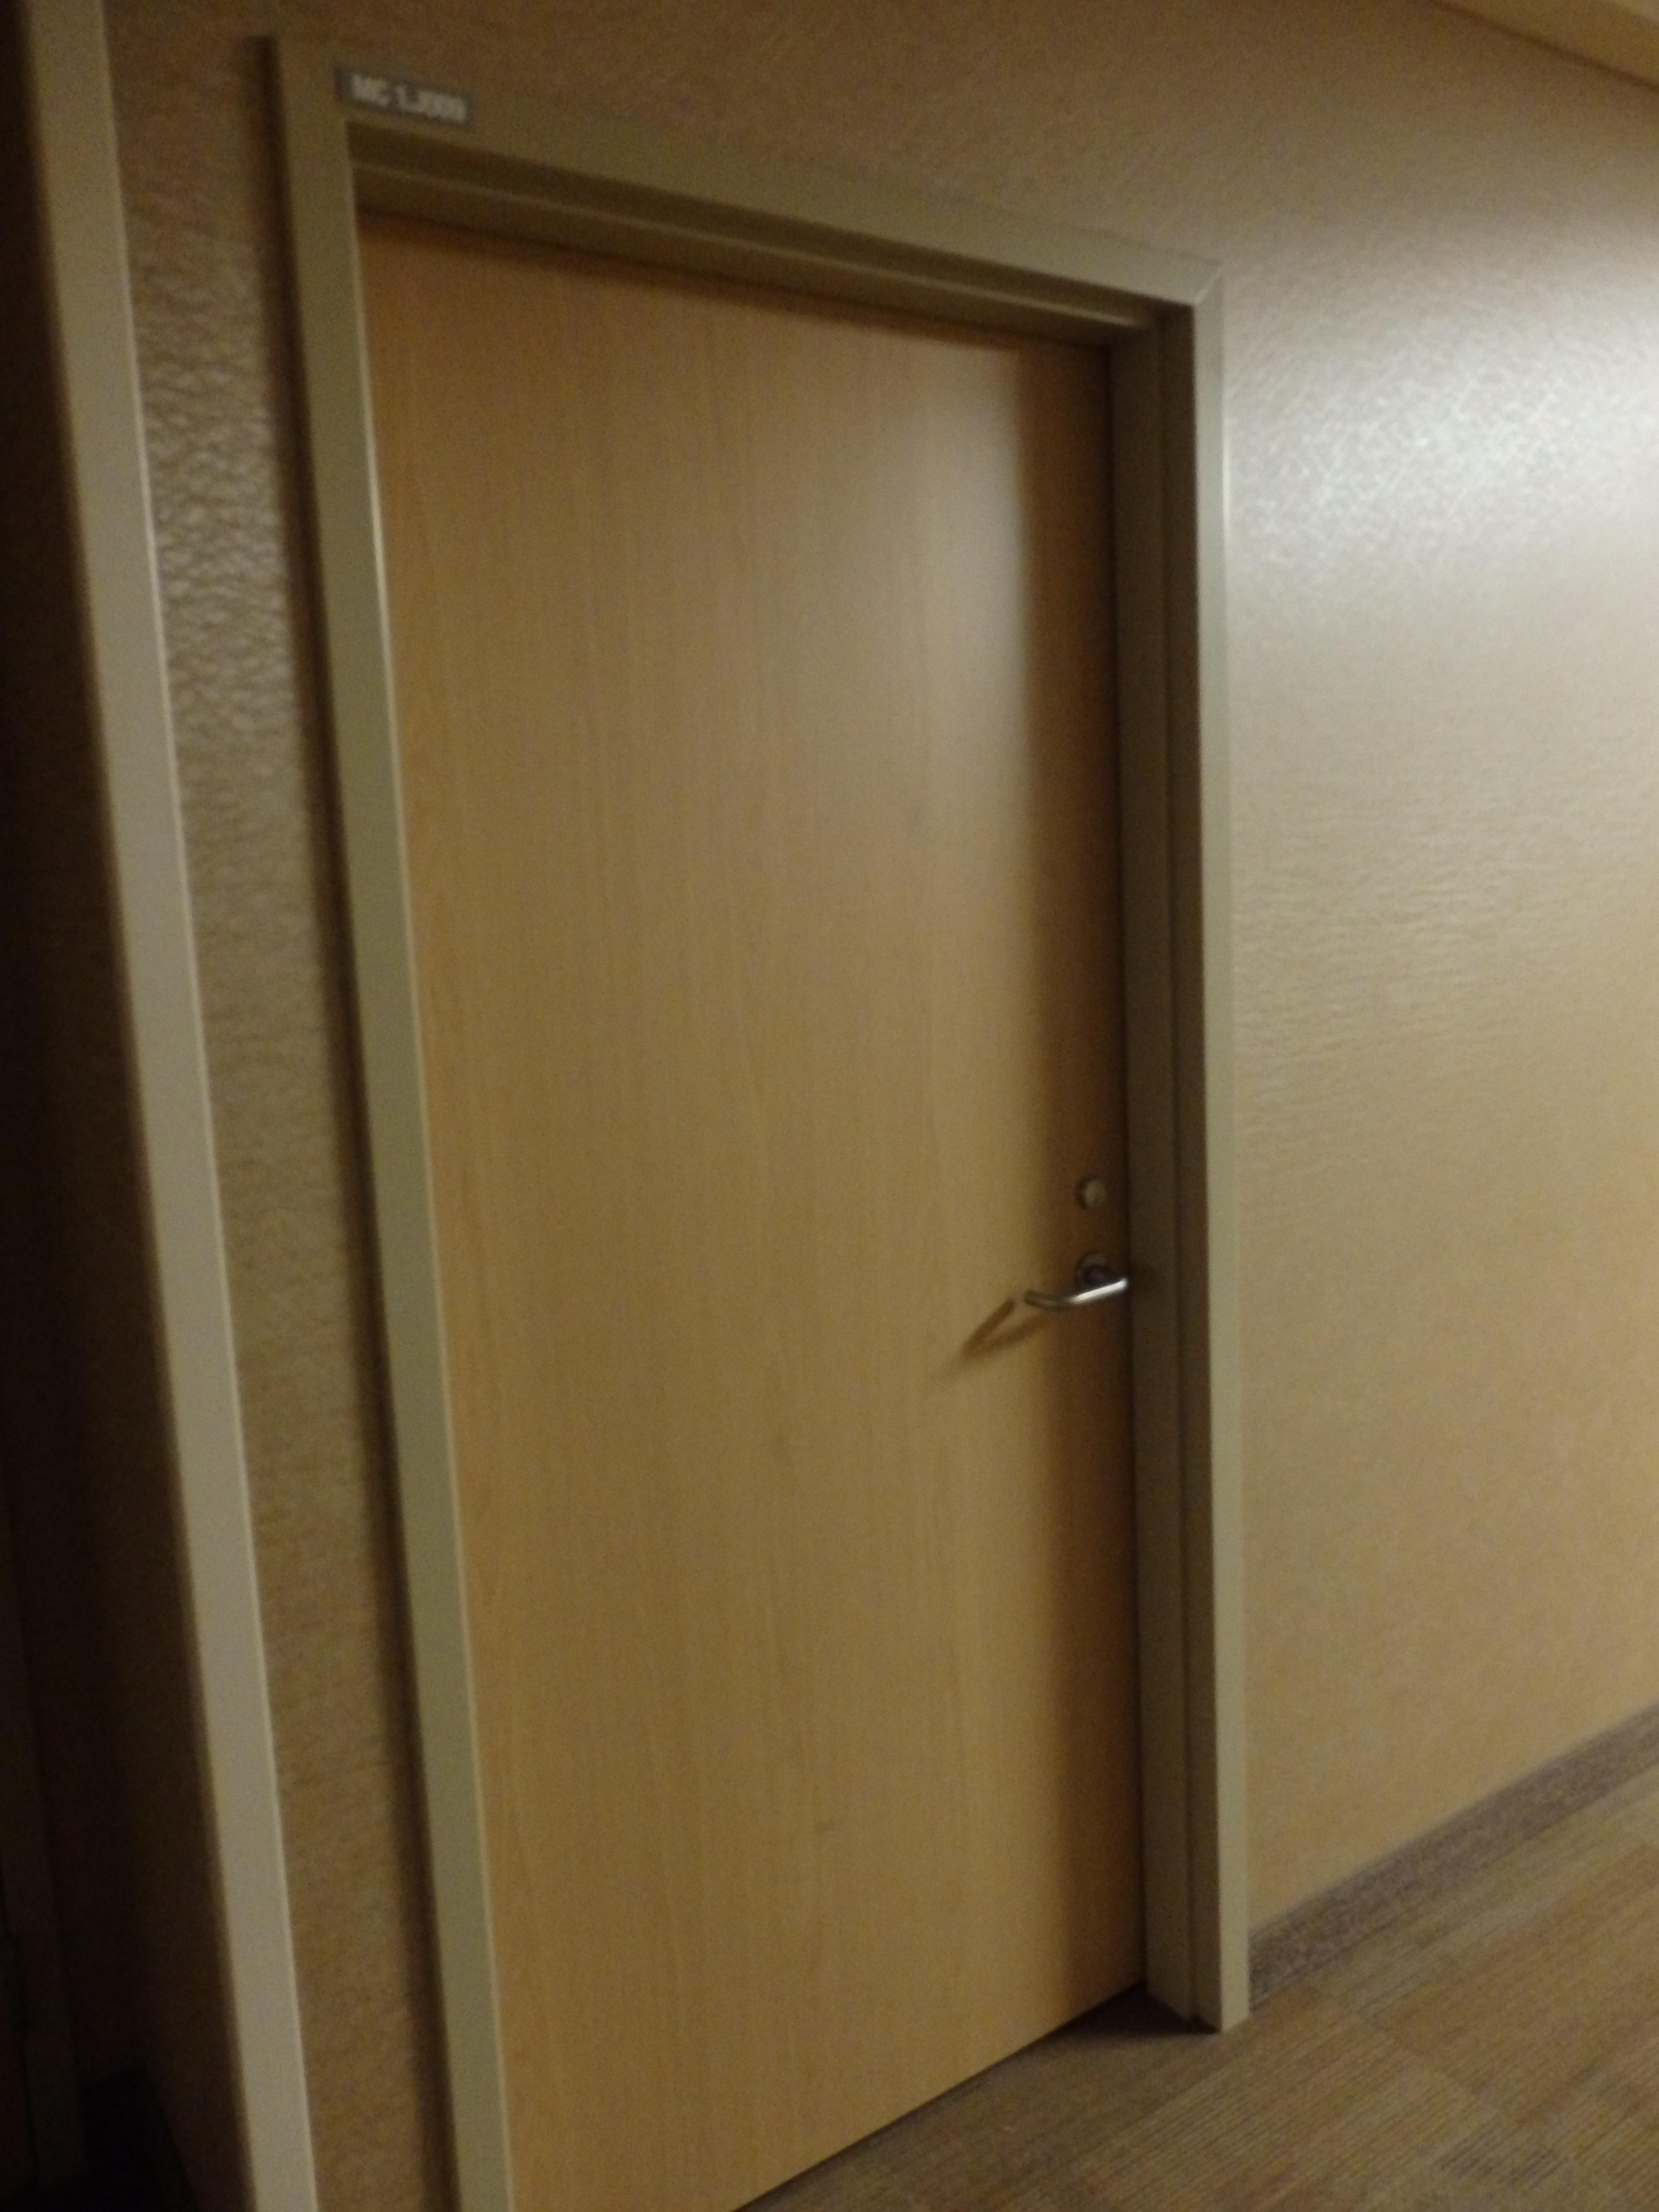door: (326, 113, 1192, 2195)
